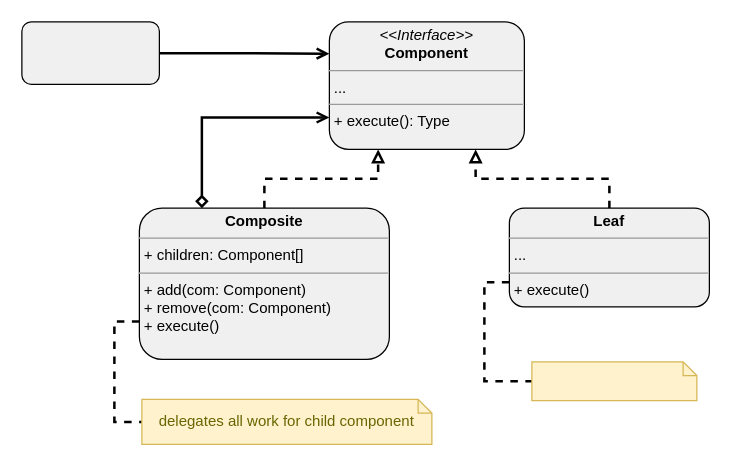
Image size: 731x466. Some labels were removed from this diagram. Here are the shapes that lost their labels. From the top down, the centre of each, then its label:
At point (90, 52): "client".
At point (614, 381): "do some work".
